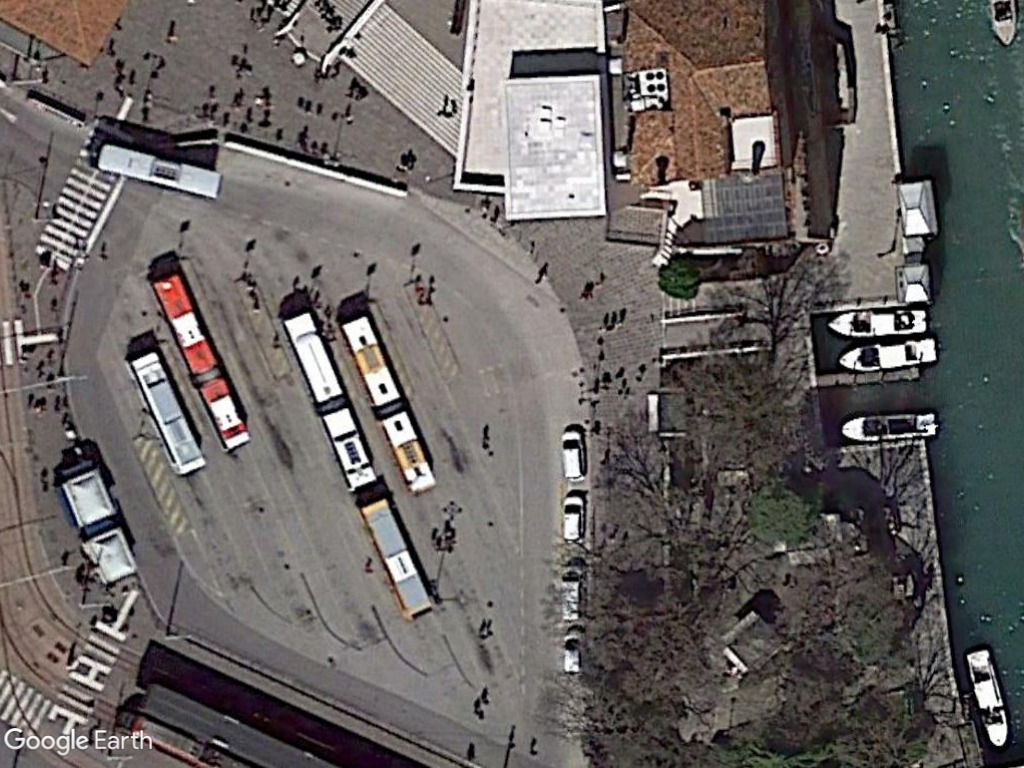boat: (960, 643, 1013, 750), (834, 335, 944, 376), (834, 409, 941, 448), (823, 306, 938, 341)
bus: (124, 348, 211, 480), (359, 495, 439, 616), (92, 140, 230, 202)
car: (558, 421, 592, 486), (562, 490, 587, 546)
longvehicle: (333, 308, 447, 493), (146, 266, 253, 459), (281, 307, 380, 496)
